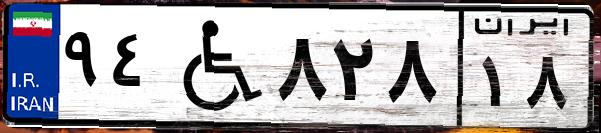1: (475, 38, 525, 113)
2: (330, 28, 385, 110)
4: (110, 28, 158, 98)
8: (270, 28, 330, 110), (385, 28, 445, 110), (525, 38, 570, 115)
9: (57, 26, 110, 100)
ژ (معلولین و جانبازان): (158, 12, 270, 120)
